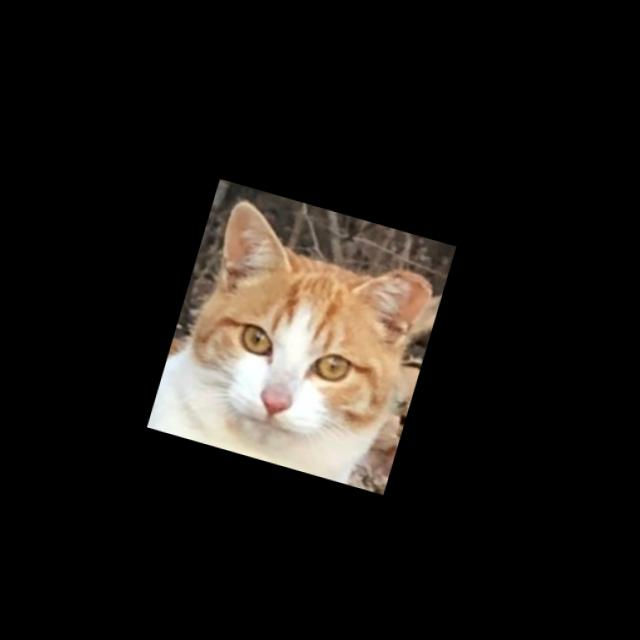animals: (164, 185, 453, 469)
